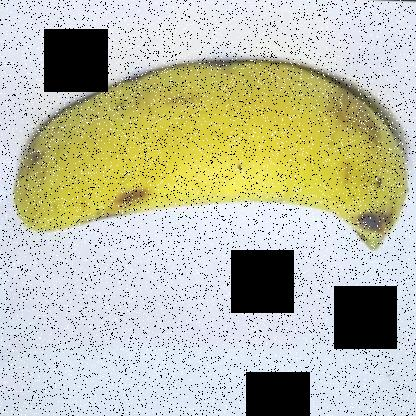freshripe: (1, 29, 415, 276)
